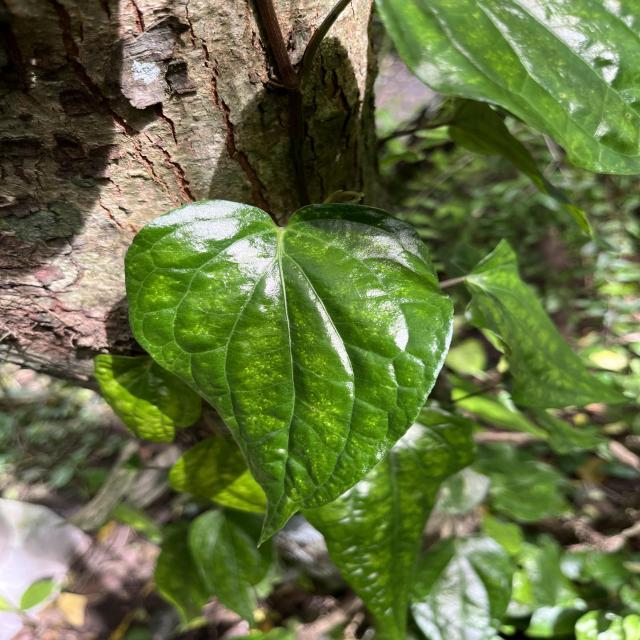Piper betle: (118, 194, 458, 550)
